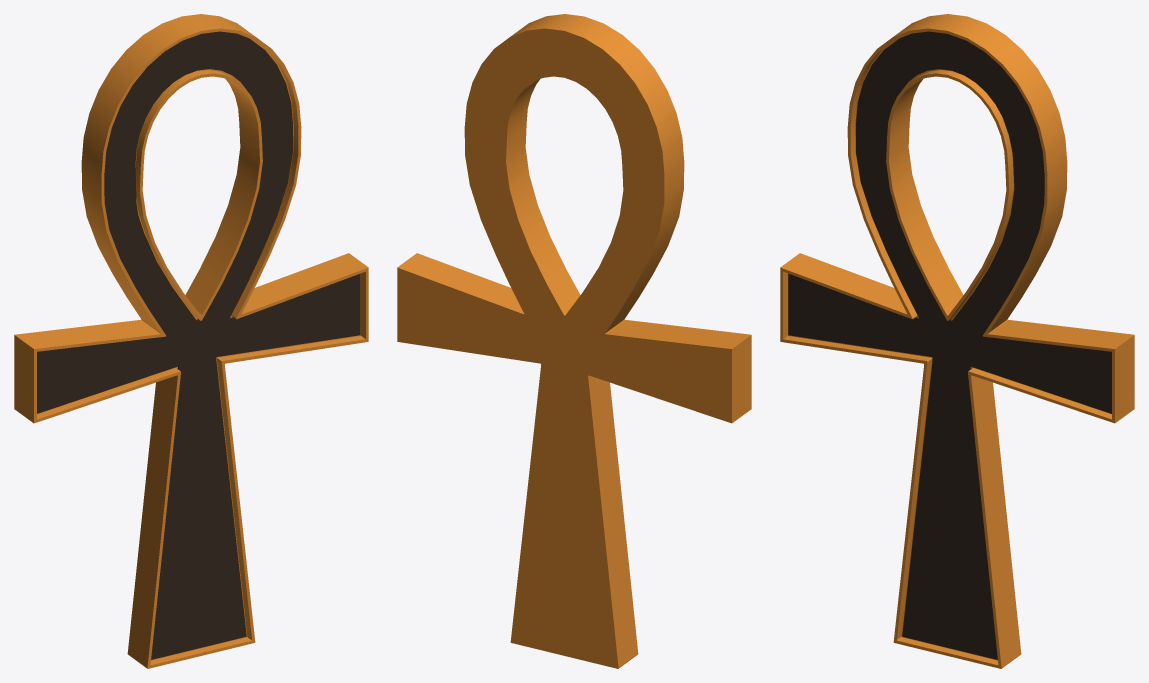
The model's file is uploads_files_6033658_ankh_key_of_life.fbx.
The picture shows the model from 3 angles, left to right: view 1: azimuth 30°, elevation 25°; view 2: azimuth 150°, elevation 25°; view 3: azimuth 330°, elevation 25°; orthographic projection.
Visible parts, largest first — view 1: ANKH; view 2: ANKH; view 3: ANKH.
Boxes of the visible parts, x1,y1,x2,y2 form: ANKH: [14, 14, 368, 668]; ANKH: [397, 14, 751, 668]; ANKH: [780, 14, 1134, 668].
Size of the model in its own units: 31.77 by 56.69 by 3.25.
